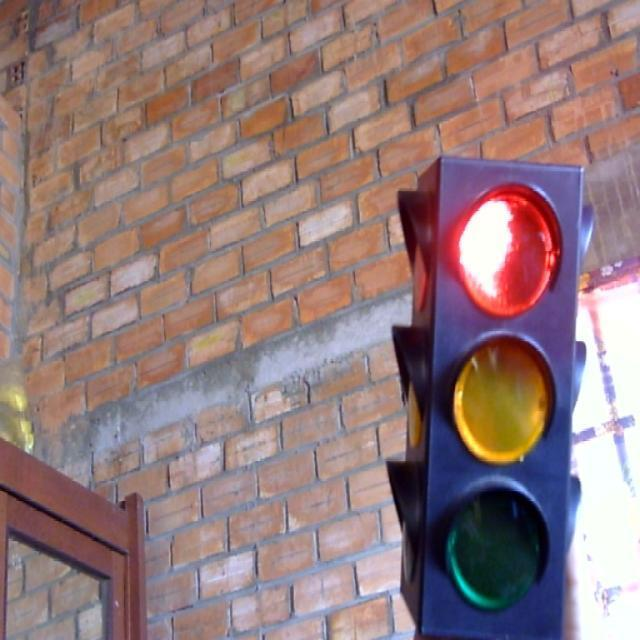red_light: (400, 149, 600, 640)
